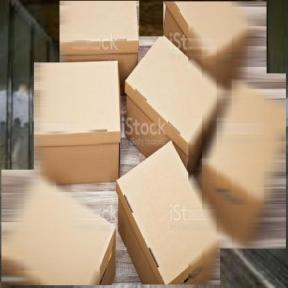box: (112, 134, 222, 288), (200, 70, 288, 252), (0, 168, 119, 288), (123, 35, 227, 170), (32, 60, 130, 186), (162, 0, 268, 102), (58, 0, 141, 71)
